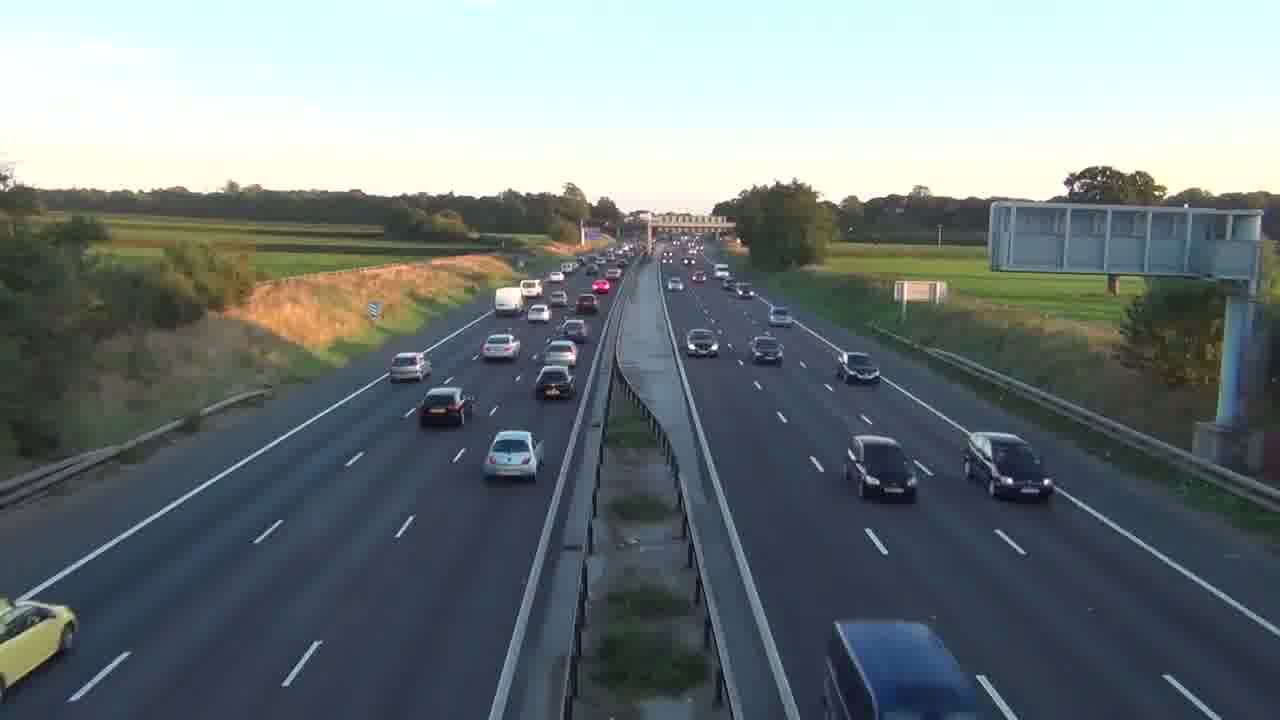car: (482, 429, 545, 481), (418, 385, 468, 427), (834, 350, 881, 385), (533, 365, 576, 400), (388, 351, 431, 382), (480, 332, 520, 361), (749, 335, 784, 366)
truck: (822, 618, 979, 717), (960, 430, 1057, 503), (844, 432, 919, 502), (494, 286, 525, 319)
